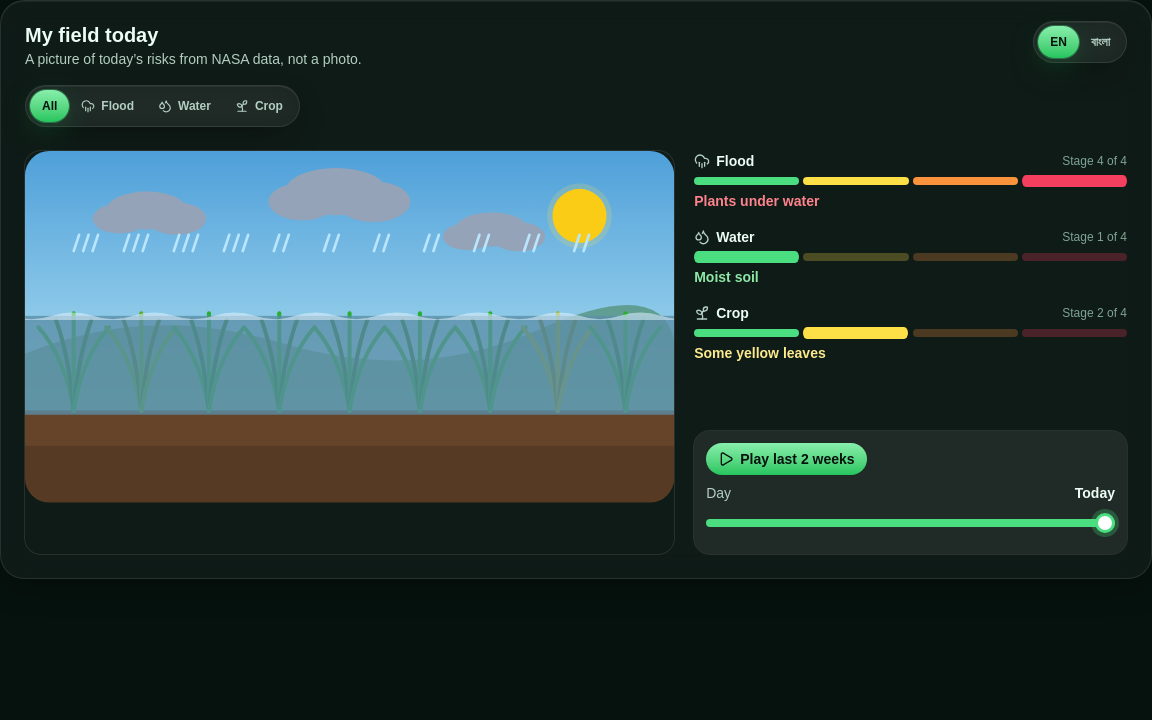
Test: FieldView › replays the last two weeks from the risk trend
Note: Scrub back to the first day: flood was only 22 (safe) then.
Set the slider labelled "Day" to "0" at (714, 523), box x1=706 y1=511 x2=1115 y2=535
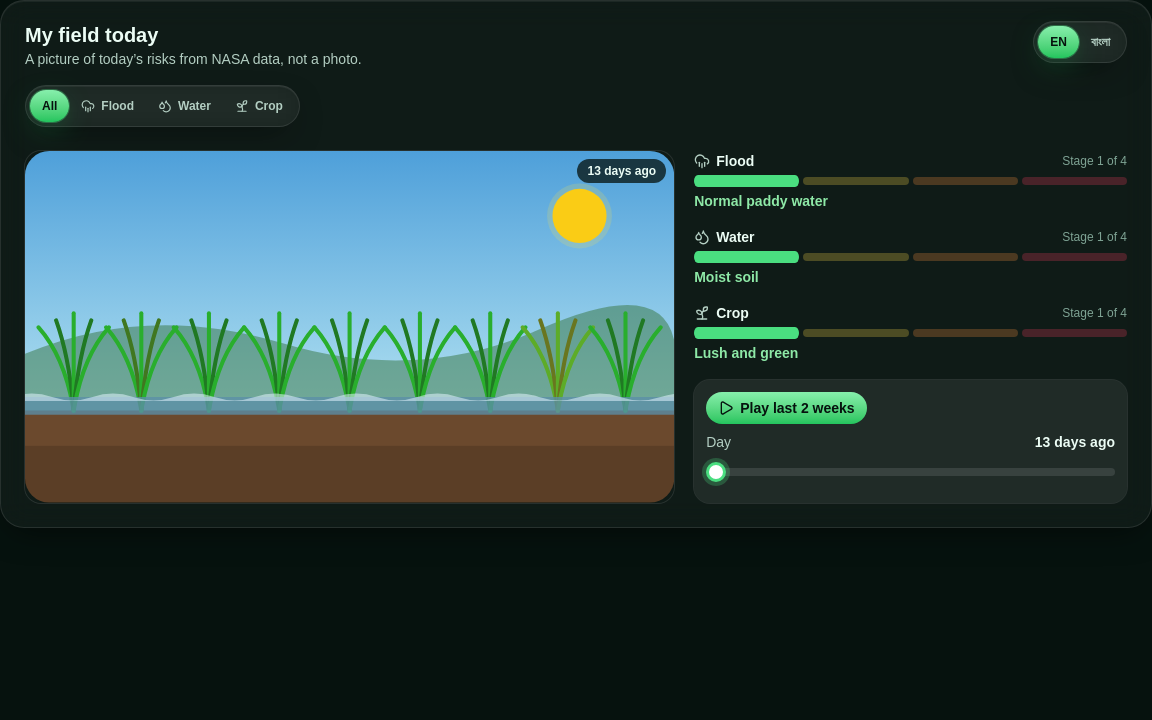
Check: the text "Rain on the way" is not shown
Check: the text "13 days ago" is shown 2 times, box x1=578 y1=159 x2=666 y2=183; x1=1035 y1=432 x2=1115 y2=452
Check: the picture named "Flood: Normal paddy water, Stage 1 of 4" is shown, box x1=694 y1=177 x2=1127 y2=185
Click the button "Play last 2 weeks" at (786, 408), box x1=706 y1=392 x2=867 y2=424
Wait 9800 ms
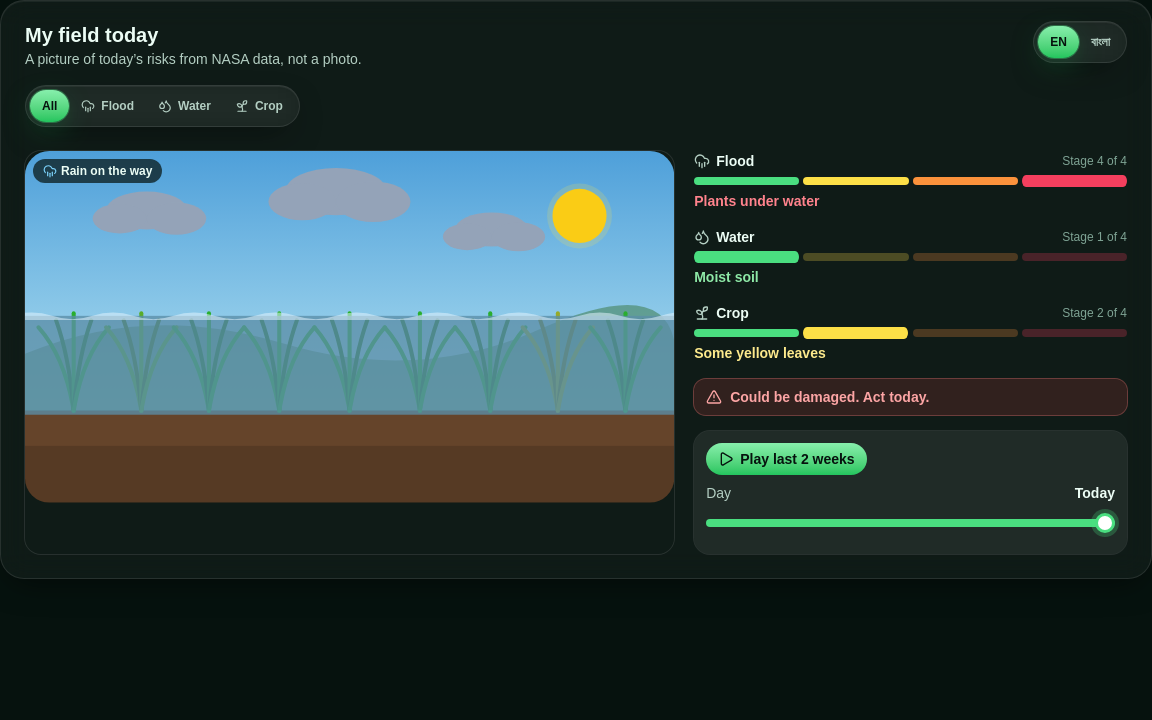
Check: the button "Play last 2 weeks" is shown, box x1=706 y1=443 x2=867 y2=475
Check: the picture named "Flood: Plants under water, Stage 4 of 4" is shown, box x1=694 y1=177 x2=1127 y2=185
